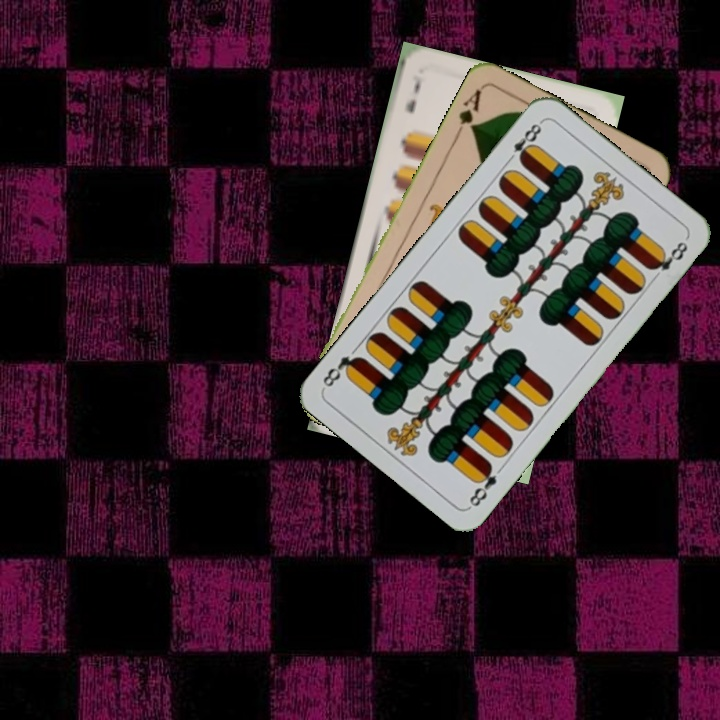E7: (401, 71, 424, 116)
E8: (502, 117, 545, 166), (465, 459, 500, 510)
GA: (451, 85, 485, 140)
